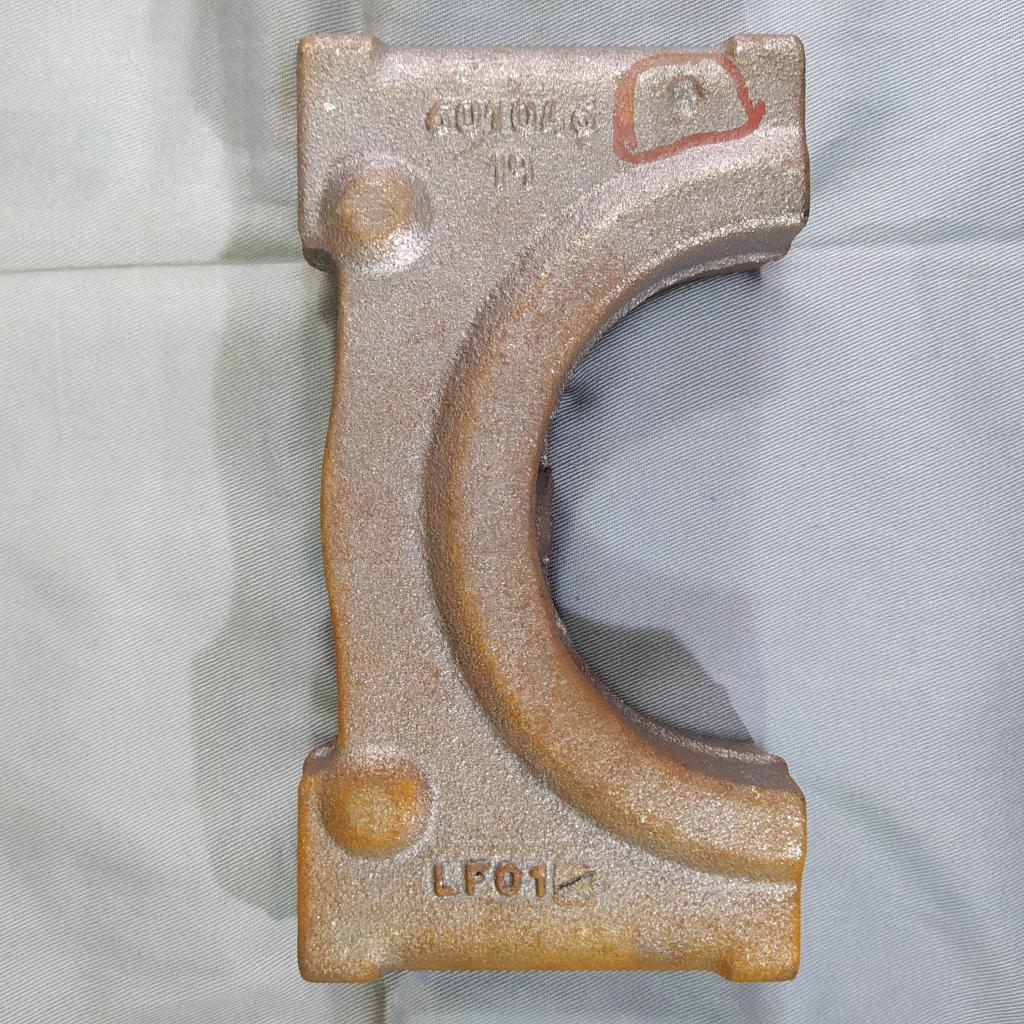buraco: (663, 70, 709, 122)
